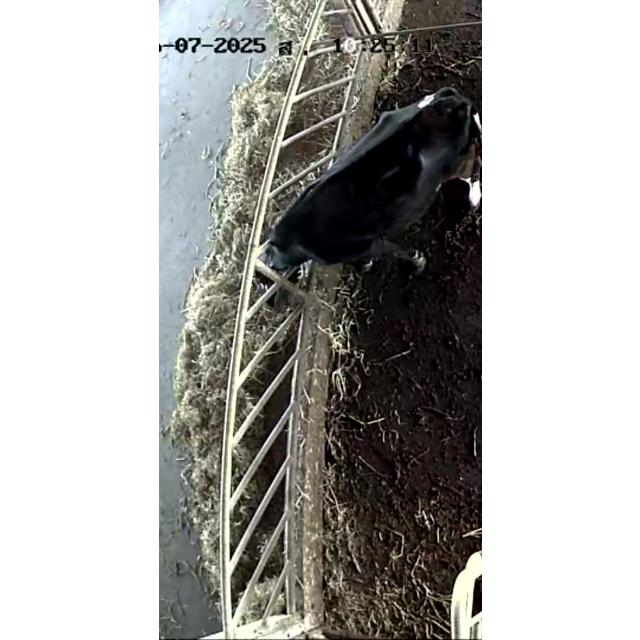eat: (212, 193, 368, 301)
